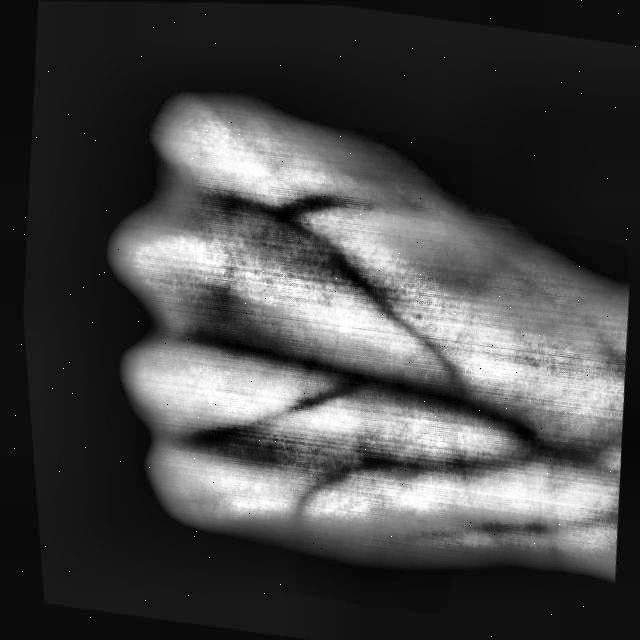Vein: (333, 355, 540, 447)
